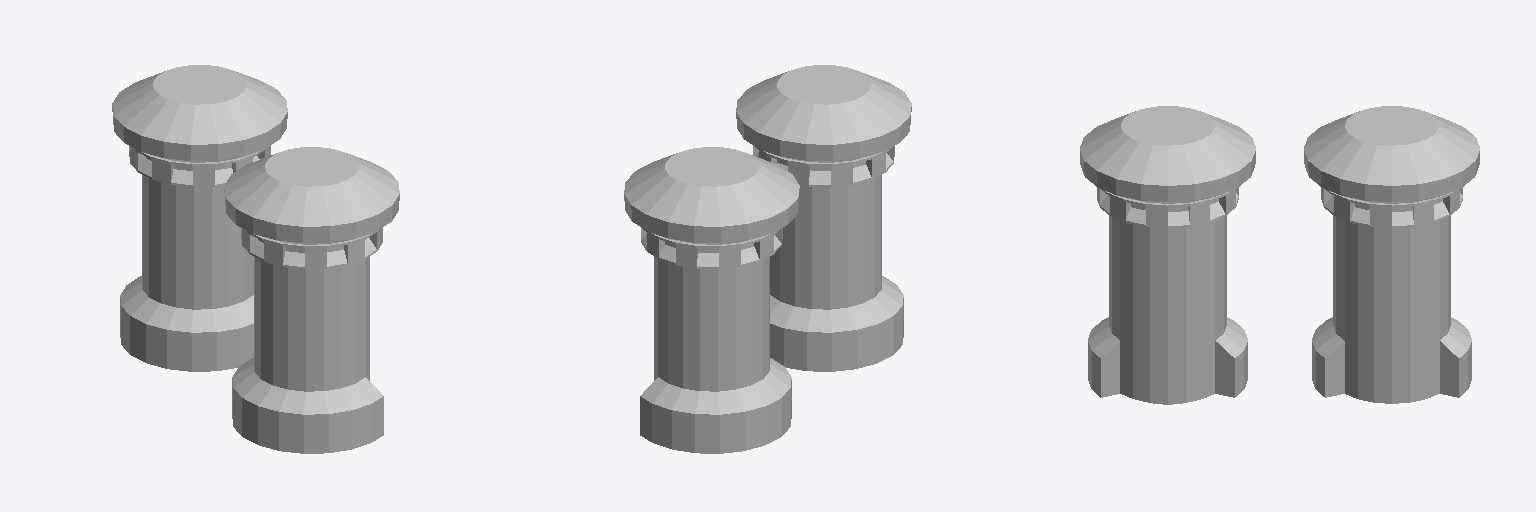
File: lab3Experiment_levelThree_jg.obj
3 renders of one model, left to right at view 1: azimuth 30°, elevation 25°; view 2: azimuth 150°, elevation 25°; view 3: azimuth 270°, elevation 25°, orthographic.
Parts seen in each view (by area): view 1: grp_lab3_experiment pCylinder1 group10, grp_lab3_experiment pCylinder1 group9; view 2: grp_lab3_experiment pCylinder1 group9, grp_lab3_experiment pCylinder1 group10; view 3: grp_lab3_experiment pCylinder1 group10, grp_lab3_experiment pCylinder1 group9.
Boxes of the visible parts, x1,y1,x2,y2 form: grp_lab3_experiment pCylinder1 group10: [224, 147, 399, 453]; grp_lab3_experiment pCylinder1 group9: [112, 65, 287, 371]; grp_lab3_experiment pCylinder1 group9: [624, 147, 799, 453]; grp_lab3_experiment pCylinder1 group10: [736, 65, 911, 371]; grp_lab3_experiment pCylinder1 group10: [1080, 106, 1255, 403]; grp_lab3_experiment pCylinder1 group9: [1304, 106, 1479, 403].
Size of the model in its own units: 403 by 655 by 914.